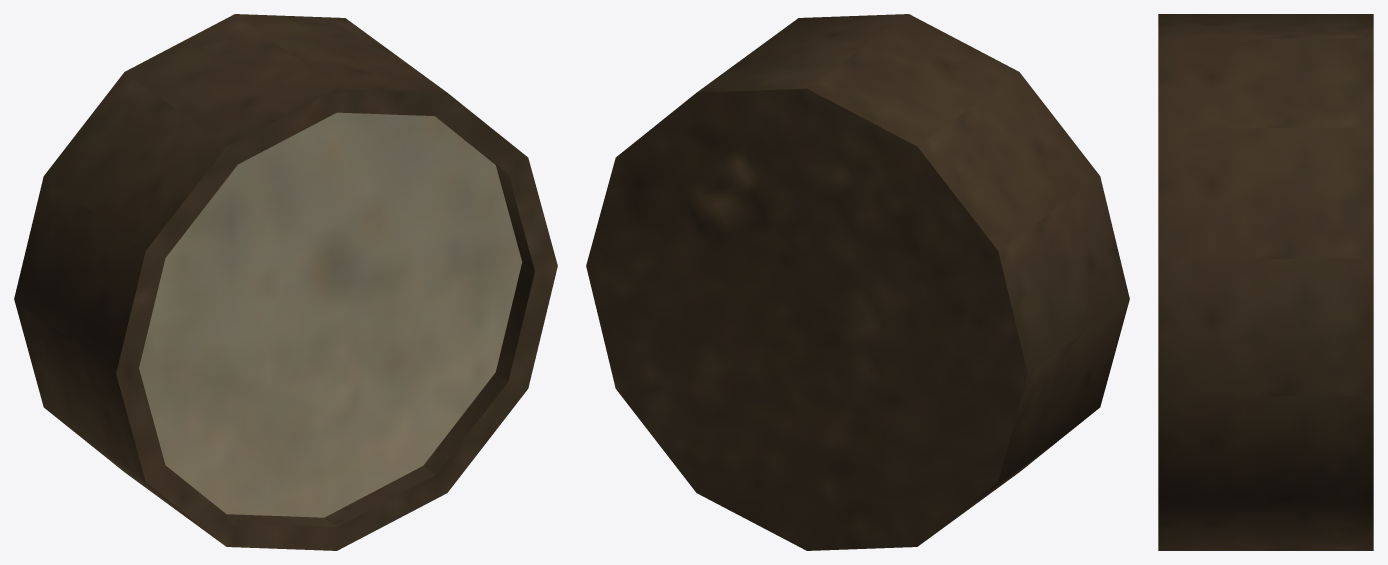
Rendered from gauge_etx_1_1.obj.
3 renders of one model, left to right at view 1: azimuth 30°, elevation 25°; view 2: azimuth 150°, elevation 25°; view 3: azimuth 270°, elevation 25°, orthographic. The views are drawn at different scales.
Parts seen in each view (by area): view 1: gauge_etx_1_1; view 2: gauge_etx_1_1; view 3: gauge_etx_1_1.
Boxes of the visible parts, bbox=[...] form: gauge_etx_1_1: bbox=[14, 14, 557, 550]; gauge_etx_1_1: bbox=[586, 14, 1129, 550]; gauge_etx_1_1: bbox=[1158, 14, 1373, 550].
Size of the model in its own units: 0.2 by 0.2 by 0.08.
